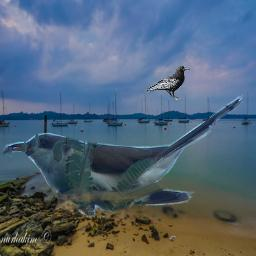Crow: (145, 65, 190, 100)
Cuckoo: (3, 95, 250, 218)
